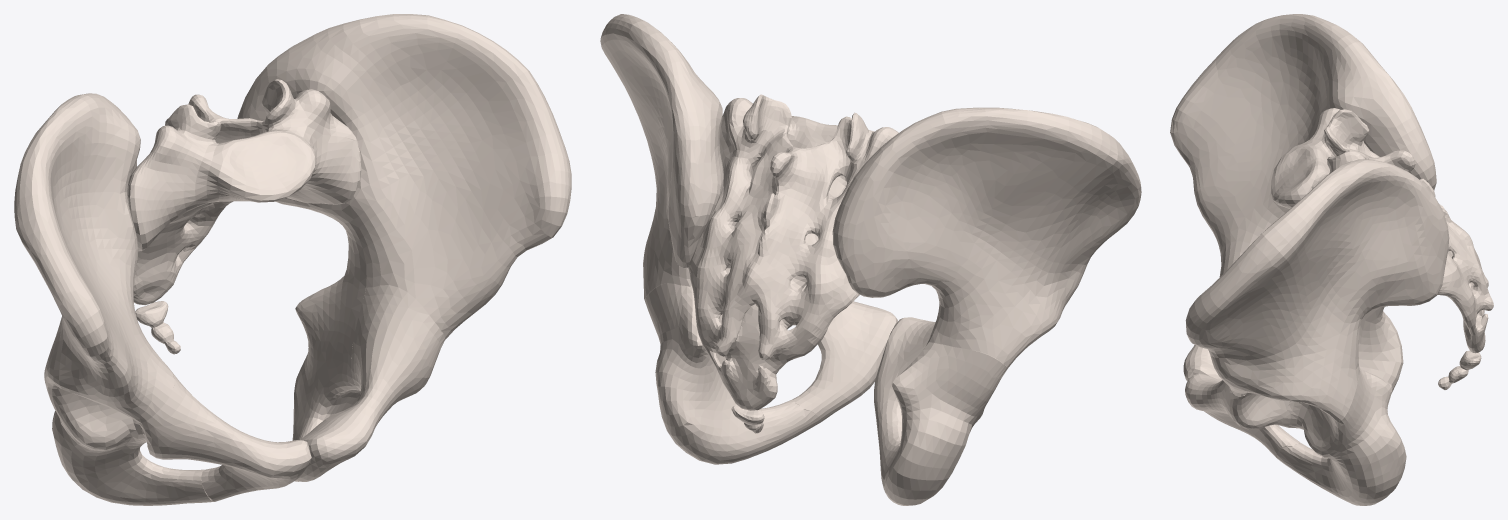
The model's file is VH_M_Pelvis_0.6.glb.
3 views of the same model, side by side, from view 1: azimuth 30°, elevation 25°; view 2: azimuth 150°, elevation 25°; view 3: azimuth 270°, elevation 25° (orthographic). The views are drawn at different scales.
Visible parts, largest first — view 1: VH_M_ilium_compact_bone_L, VH_M_ilium_compact_bone_R, VH_M_sacrum, VH_M_pubis_compact_bone_L, VH_M_ischium_compact_bone_R, VH_M_pubis_compact_bone_R, VH_M_ischium_compact_bone_L, VH_M_coccyx; view 2: VH_M_ilium_compact_bone_R, VH_M_sacrum, VH_M_ilium_compact_bone_L, VH_M_ischium_compact_bone_L, VH_M_ischium_compact_bone_R, VH_M_pubis_compact_bone_L, VH_M_pubis_compact_bone_R; view 3: VH_M_ilium_compact_bone_L, VH_M_ilium_compact_bone_R, VH_M_ischium_compact_bone_L, VH_M_sacrum, VH_M_pubis_compact_bone_L, VH_M_ischium_compact_bone_R, VH_M_pubis_compact_bone_R, VH_M_coccyx.
Boxes of the visible parts, x1,y1,x2,y2 form: VH_M_ilium_compact_bone_L: (237, 14, 571, 339); VH_M_ilium_compact_bone_R: (14, 93, 174, 423); VH_M_sacrum: (127, 79, 361, 305); VH_M_pubis_compact_bone_L: (295, 285, 445, 481); VH_M_ischium_compact_bone_R: (44, 378, 214, 505); VH_M_pubis_compact_bone_R: (139, 370, 311, 501); VH_M_ischium_compact_bone_L: (292, 274, 365, 481); VH_M_coccyx: (135, 301, 180, 354); VH_M_ilium_compact_bone_R: (832, 107, 1141, 367); VH_M_sacrum: (688, 94, 898, 410); VH_M_ilium_compact_bone_L: (600, 14, 723, 299); VH_M_ischium_compact_bone_L: (644, 268, 821, 464); VH_M_ischium_compact_bone_R: (878, 342, 1007, 505); VH_M_pubis_compact_bone_L: (793, 285, 897, 421); VH_M_pubis_compact_bone_R: (874, 317, 935, 433); VH_M_ilium_compact_bone_L: (1185, 159, 1449, 421); VH_M_ilium_compact_bone_R: (1170, 14, 1436, 264); VH_M_ischium_compact_bone_L: (1276, 367, 1406, 505); VH_M_sacrum: (1271, 108, 1493, 353); VH_M_pubis_compact_bone_L: (1185, 373, 1299, 457); VH_M_ischium_compact_bone_R: (1288, 307, 1403, 428); VH_M_pubis_compact_bone_R: (1183, 261, 1291, 427); VH_M_coccyx: (1438, 350, 1481, 389).
Bounding box in the file's own units: 0.2835 × 0.2186 × 0.1729.
